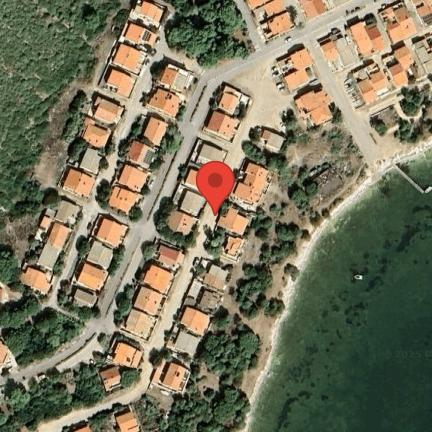area_open: (269, 61, 290, 96), (20, 370, 57, 389), (341, 79, 362, 109), (5, 359, 14, 375)
built: (97, 0, 172, 99), (244, 0, 295, 43), (186, 259, 226, 312), (276, 46, 317, 94), (231, 161, 268, 212), (343, 16, 388, 55), (381, 44, 420, 88), (295, 87, 334, 130), (352, 64, 391, 107), (380, 0, 418, 44), (38, 222, 72, 271), (148, 359, 192, 394), (188, 138, 229, 173), (200, 110, 238, 144), (143, 87, 183, 119), (319, 38, 358, 69), (62, 168, 96, 202), (174, 183, 207, 218), (178, 305, 211, 338), (166, 327, 199, 359), (217, 84, 250, 115), (122, 309, 155, 340), (87, 96, 122, 125), (96, 215, 125, 248), (158, 65, 193, 92), (81, 118, 111, 149), (124, 139, 155, 168), (214, 208, 248, 234), (134, 287, 163, 317), (21, 270, 53, 297), (108, 186, 138, 214), (145, 264, 172, 295), (111, 343, 143, 369), (143, 114, 169, 146), (78, 264, 107, 291), (165, 213, 196, 238), (414, 34, 432, 76), (115, 166, 146, 190), (182, 170, 213, 194), (87, 240, 112, 269), (156, 245, 181, 271), (220, 235, 245, 260), (298, 0, 329, 20), (410, 0, 432, 27), (55, 200, 79, 224), (261, 131, 286, 154), (80, 148, 102, 174), (100, 365, 122, 390), (116, 412, 141, 432), (73, 289, 97, 308), (38, 208, 55, 232), (0, 343, 9, 371), (75, 427, 92, 432)
vegetation_high: (139, 210, 309, 432), (0, 335, 136, 431), (0, 240, 87, 377), (162, 0, 259, 71), (238, 111, 308, 177), (155, 197, 198, 248), (151, 122, 181, 170), (58, 291, 93, 323), (116, 115, 140, 160), (111, 287, 136, 324), (75, 230, 91, 259), (110, 248, 125, 276), (96, 179, 110, 209), (207, 227, 220, 258), (94, 413, 115, 432), (67, 138, 82, 164)
vegetation_low: (0, 0, 129, 259), (263, 124, 375, 234), (363, 75, 432, 167), (241, 314, 279, 402), (218, 224, 255, 304), (267, 252, 302, 300), (276, 216, 309, 233)
water: (243, 139, 432, 432)
